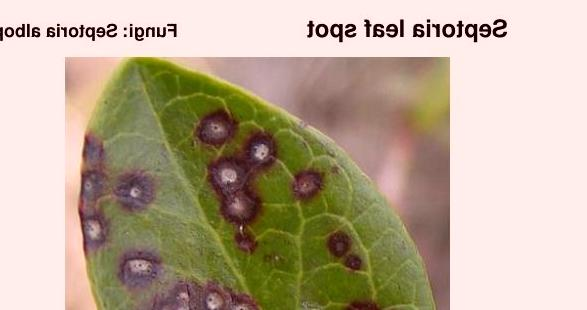Tomato Septoria leaf spot: (76, 61, 448, 310)
